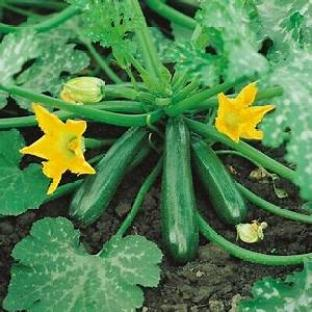Zucchini: (70, 127, 148, 224), (162, 117, 198, 263), (192, 139, 247, 224)
